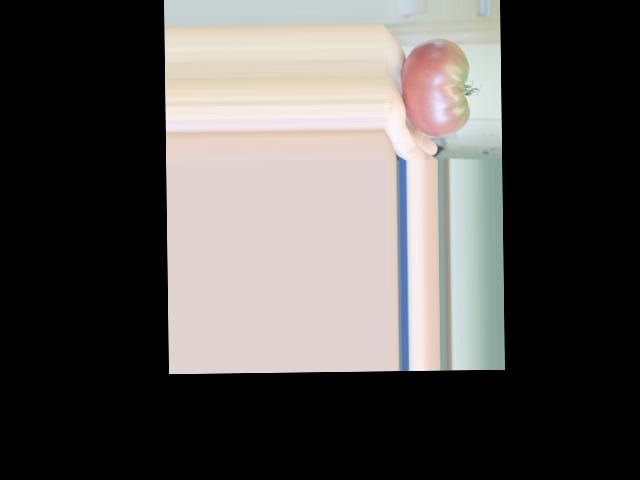tomato: (401, 38, 470, 137)
